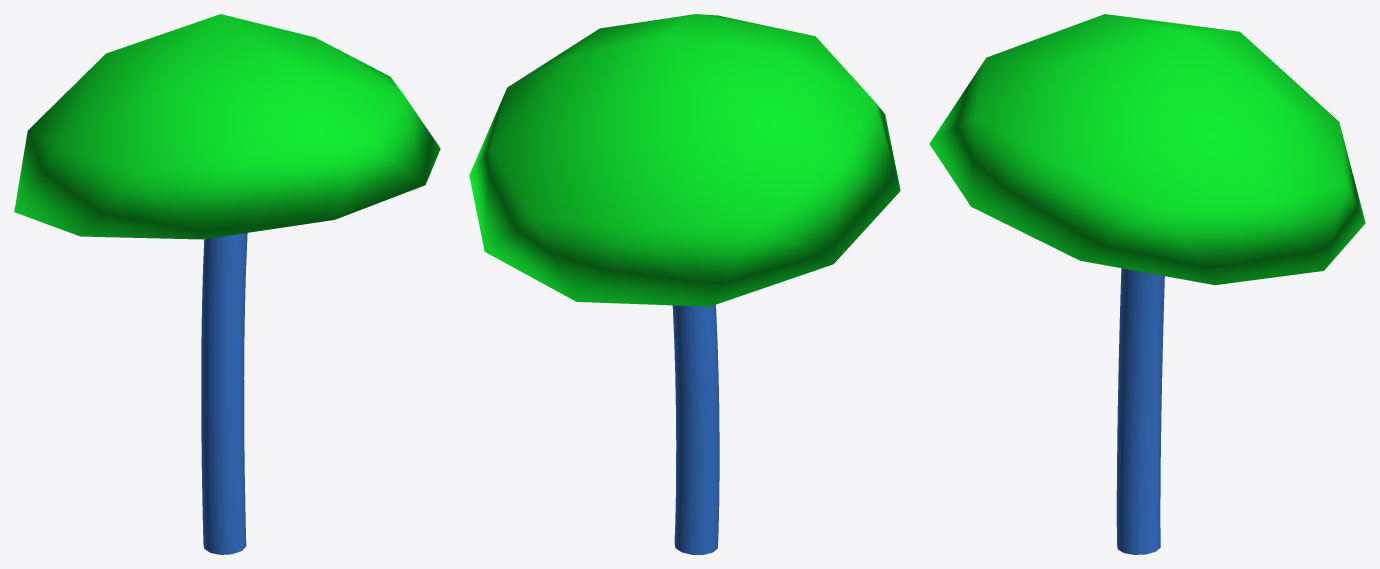
File: hongoPeq3-0.fbx
The picture shows the model from 3 angles, left to right: view 1: azimuth 30°, elevation 25°; view 2: azimuth 150°, elevation 25°; view 3: azimuth 270°, elevation 25°; orthographic projection.
Parts seen in each view (by area): view 1: Esfera geodésica.004, Curva Bezier.004; view 2: Esfera geodésica.004, Curva Bezier.004; view 3: Esfera geodésica.004, Curva Bezier.004.
Part boxes in pixels (box(x1,y1,x2,y2)): Esfera geodésica.004: box(14, 14, 440, 239); Curva Bezier.004: box(201, 233, 247, 554); Esfera geodésica.004: box(469, 14, 900, 306); Curva Bezier.004: box(672, 304, 719, 554); Esfera geodésica.004: box(929, 14, 1365, 285); Curva Bezier.004: box(1116, 268, 1164, 554).
Bounding box in the file's own units: 190 × 260 × 196.
